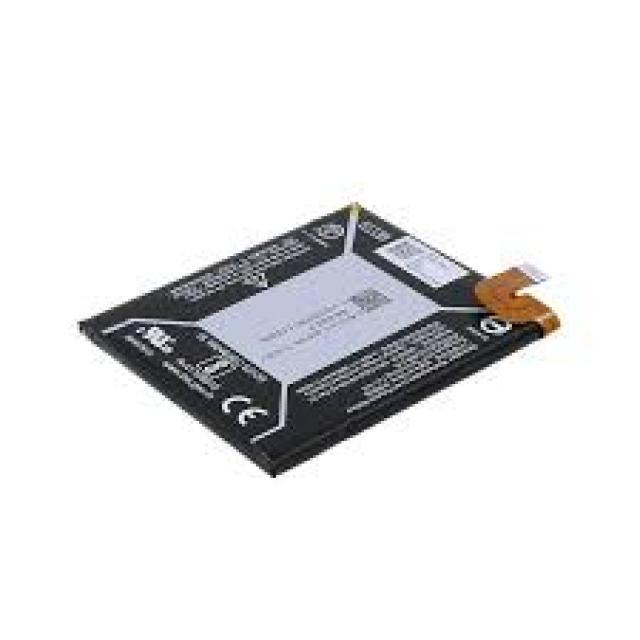battery: (79, 206, 566, 479)
